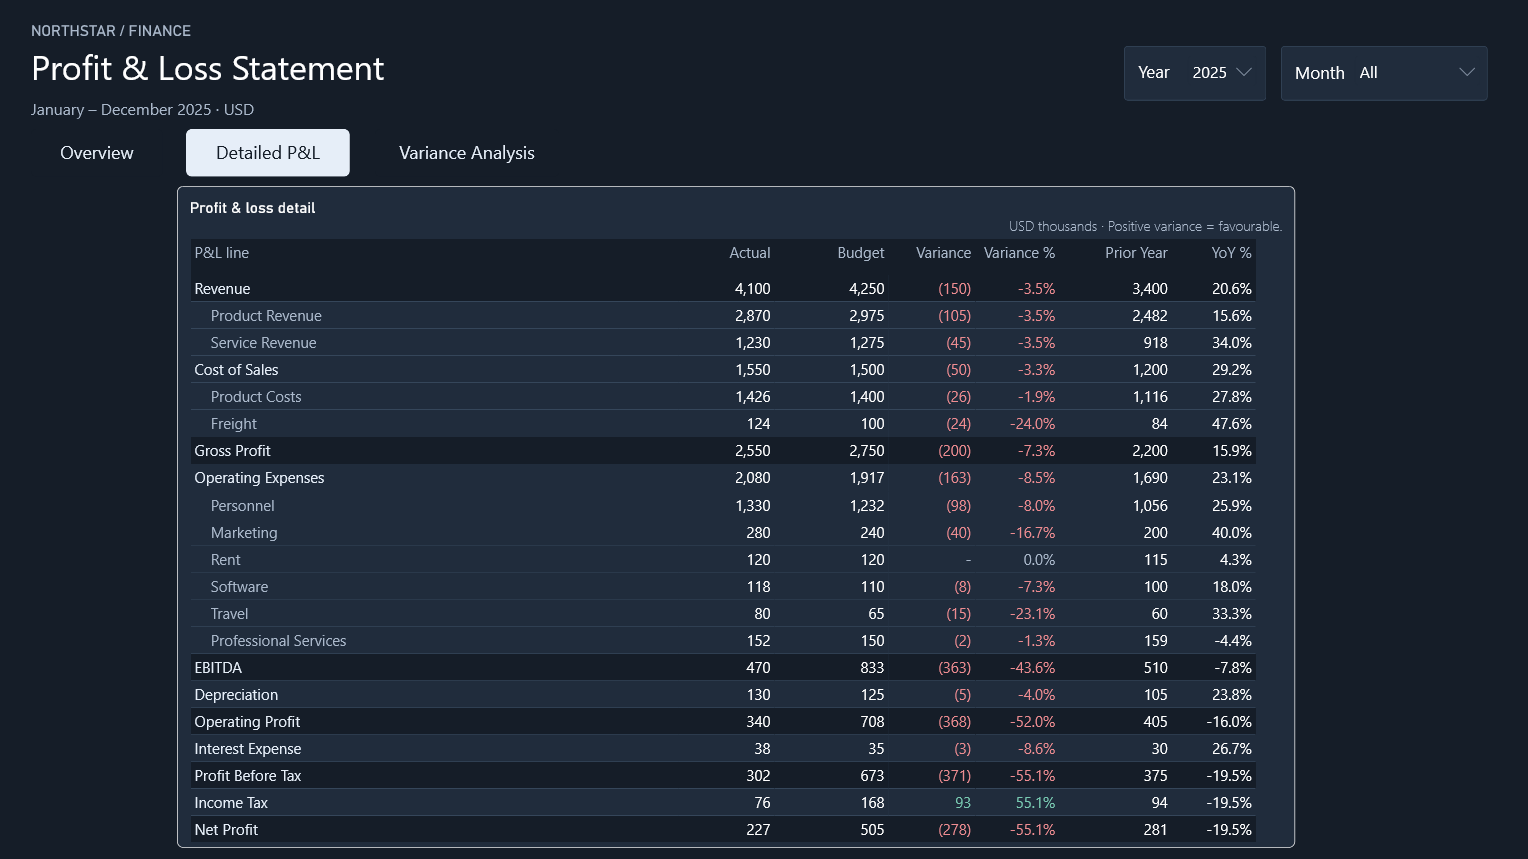

What the dashboard file says about the page in this screenshot:
{"tool":"powerbi","page":{"name":"Detailed P&L","canvas":[1920,1080],"ordinal":1},"visuals":[{"type":"group","id":"g1","title":"Group 3","box":[38.6,27.1,630.6,125.7],"z":0},{"type":"textbox","box":[38.6,27.1,215.7,27.1],"z":0,"group":"g1"},{"type":"shape","box":[1610.5,57.9,259.9,68.7],"z":0,"group":"g4"},{"type":"group","id":"g2","title":"Group 1","box":[1412.6,58.2,179.1,68.7],"z":0,"group":"g3"},{"type":"shape","box":[1412.6,58.2,179.1,68.7],"z":0,"group":"g2"},{"type":"actionButton","box":[39.1,162.7,165.6,60],"z":0,"group":"g5"},{"type":"textbox","box":[39.2,54,630,58.6],"z":1000,"group":"g1"},{"type":"group","id":"g3","title":"Group 5","box":[1412.6,57.9,457.9,68.7],"z":1000},{"type":"group","id":"g4","title":"Group 2","box":[1610.5,57.9,259.9,68.7],"z":1000,"group":"g3"},{"type":"slicer","fields":{"Values":["Dim_Date.MonthName"]},"box":[1698.4,65.6,167.1,47.1],"z":1000,"group":"g4"},{"type":"slicer","fields":{"Values":["Dim_Date.Year"]},"box":[1488.6,65.7,96.5,46.5],"z":1000,"group":"g2"},{"type":"actionButton","box":[234.4,162.7,206,60],"z":1000,"group":"g5"},{"type":"textbox","box":[1419,76.1,63,28.7],"z":2000,"group":"g2"},{"type":"textbox","box":[1628.6,76.2,70,28.9],"z":2000,"group":"g4"},{"type":"cardVisual","fields":{"Data":["Measures_.Overview Subtitle"]},"box":[38.6,117.1,600,35.7],"z":2000,"group":"g1"},{"type":"actionButton","box":[471.4,162.7,231.6,60],"z":2000,"group":"g5"},{"type":"tableEx","title":"Profit & loss detail","fields":{"Values":["PL_Layout.Display Line","Measures_.PL Actual","Measures_.PL Budget","Measures_.PL Variance F-U","Measures_.PL Variance F-U %","Measures_.PL Prior Year","Measures_.PL YoY %"]},"box":[222.2,234.3,1405.9,832.2],"z":2000},{"type":"group","id":"g5","title":"Group 1","box":[39.1,162.7,663.6,60.9],"z":3000}]}

Visuals, with their boxes in screenshot pixels (x1, y1, x2, y2), scaled from the page's 1920x1080 canvas onto the 1528x859 screenshot:
"Group 3" group: (31, 22, 533, 122)
textbox: (31, 22, 202, 43)
shape: (1282, 46, 1489, 101)
"Group 1" group: (1124, 46, 1267, 101)
shape: (1124, 46, 1267, 101)
actionButton: (31, 129, 163, 177)
textbox: (31, 43, 533, 90)
"Group 5" group: (1124, 46, 1489, 101)
"Group 2" group: (1282, 46, 1489, 101)
slicer - Dim_Date.MonthName: (1352, 52, 1485, 90)
slicer - Dim_Date.Year: (1185, 52, 1261, 89)
actionButton: (187, 129, 350, 177)
textbox: (1129, 61, 1179, 83)
textbox: (1296, 61, 1352, 84)
cardVisual - Measures_.Overview Subtitle: (31, 93, 508, 122)
actionButton: (375, 129, 559, 177)
"Profit & loss detail" tableEx: (177, 186, 1296, 848)
"Group 1" group: (31, 129, 559, 178)
